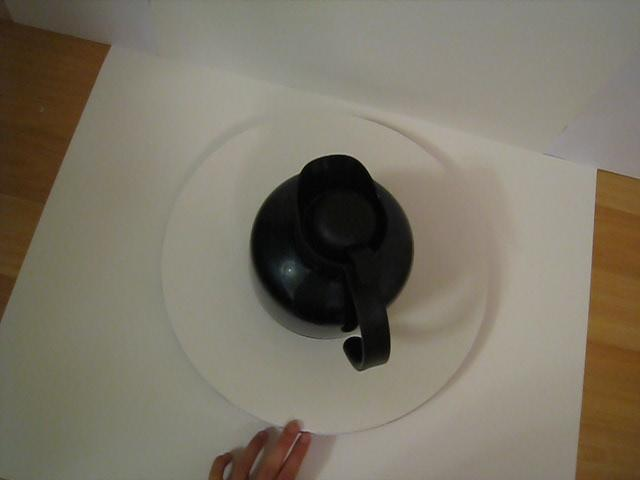pitcher: (245, 145, 417, 394)
